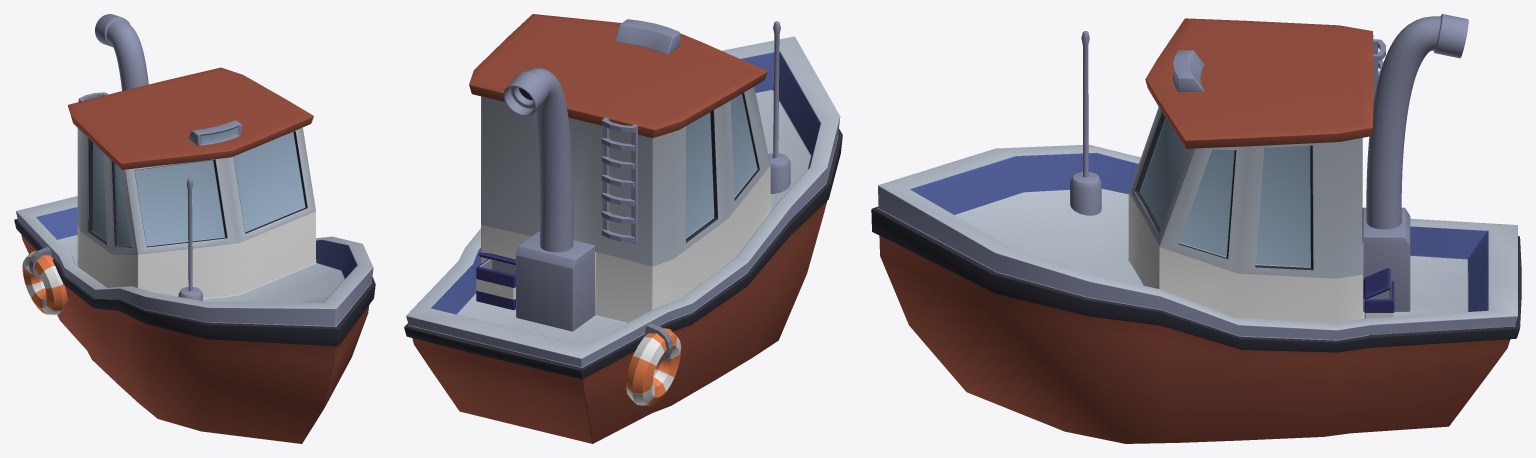
File: boat.fbx
3 views of the same model, side by side, from view 1: azimuth 30°, elevation 25°; view 2: azimuth 150°, elevation 25°; view 3: azimuth 270°, elevation 25° (orthographic). The views are drawn at different scales.
Parts seen in each view (by area): view 1: Boat.001, Pipe.001, LivePres.001, Light.001, Pole.001; view 2: Boat.001, Pipe.001, Ladder.001, LivePres.001, Box.001, Pole.001, Light.001; view 3: Boat.001, Pipe.001, Pole.001, Light.001, Box.001, BoxLid.001.
Part boxes in pixels (x1,y1,x2,y2): Boat.001: (14, 67, 375, 443); Pipe.001: (95, 14, 148, 90); LivePres.001: (22, 251, 67, 314); Light.001: (188, 120, 241, 145); Pole.001: (178, 178, 202, 300); Boat.001: (404, 14, 842, 443); Pipe.001: (503, 68, 573, 252); Ladder.001: (601, 117, 637, 243); LivePres.001: (626, 328, 681, 405); Box.001: (476, 259, 515, 310); Pole.001: (768, 21, 790, 193); Light.001: (615, 19, 680, 54); Boat.001: (871, 18, 1521, 443); Pipe.001: (1366, 14, 1468, 229); Pole.001: (1070, 31, 1101, 215); Light.001: (1172, 50, 1204, 91); Box.001: (1364, 281, 1394, 318); BoxLid.001: (1363, 268, 1390, 299).
Bounding box in the file's own units: 310 × 392 × 614.
